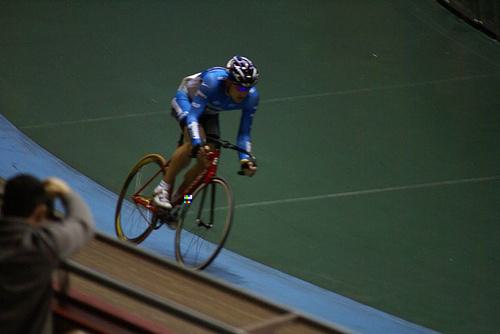car: (114, 124, 262, 275)
person: (151, 52, 265, 209), (1, 173, 98, 334)
